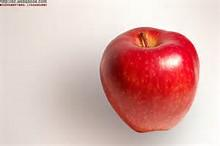apple: (100, 24, 200, 133)
